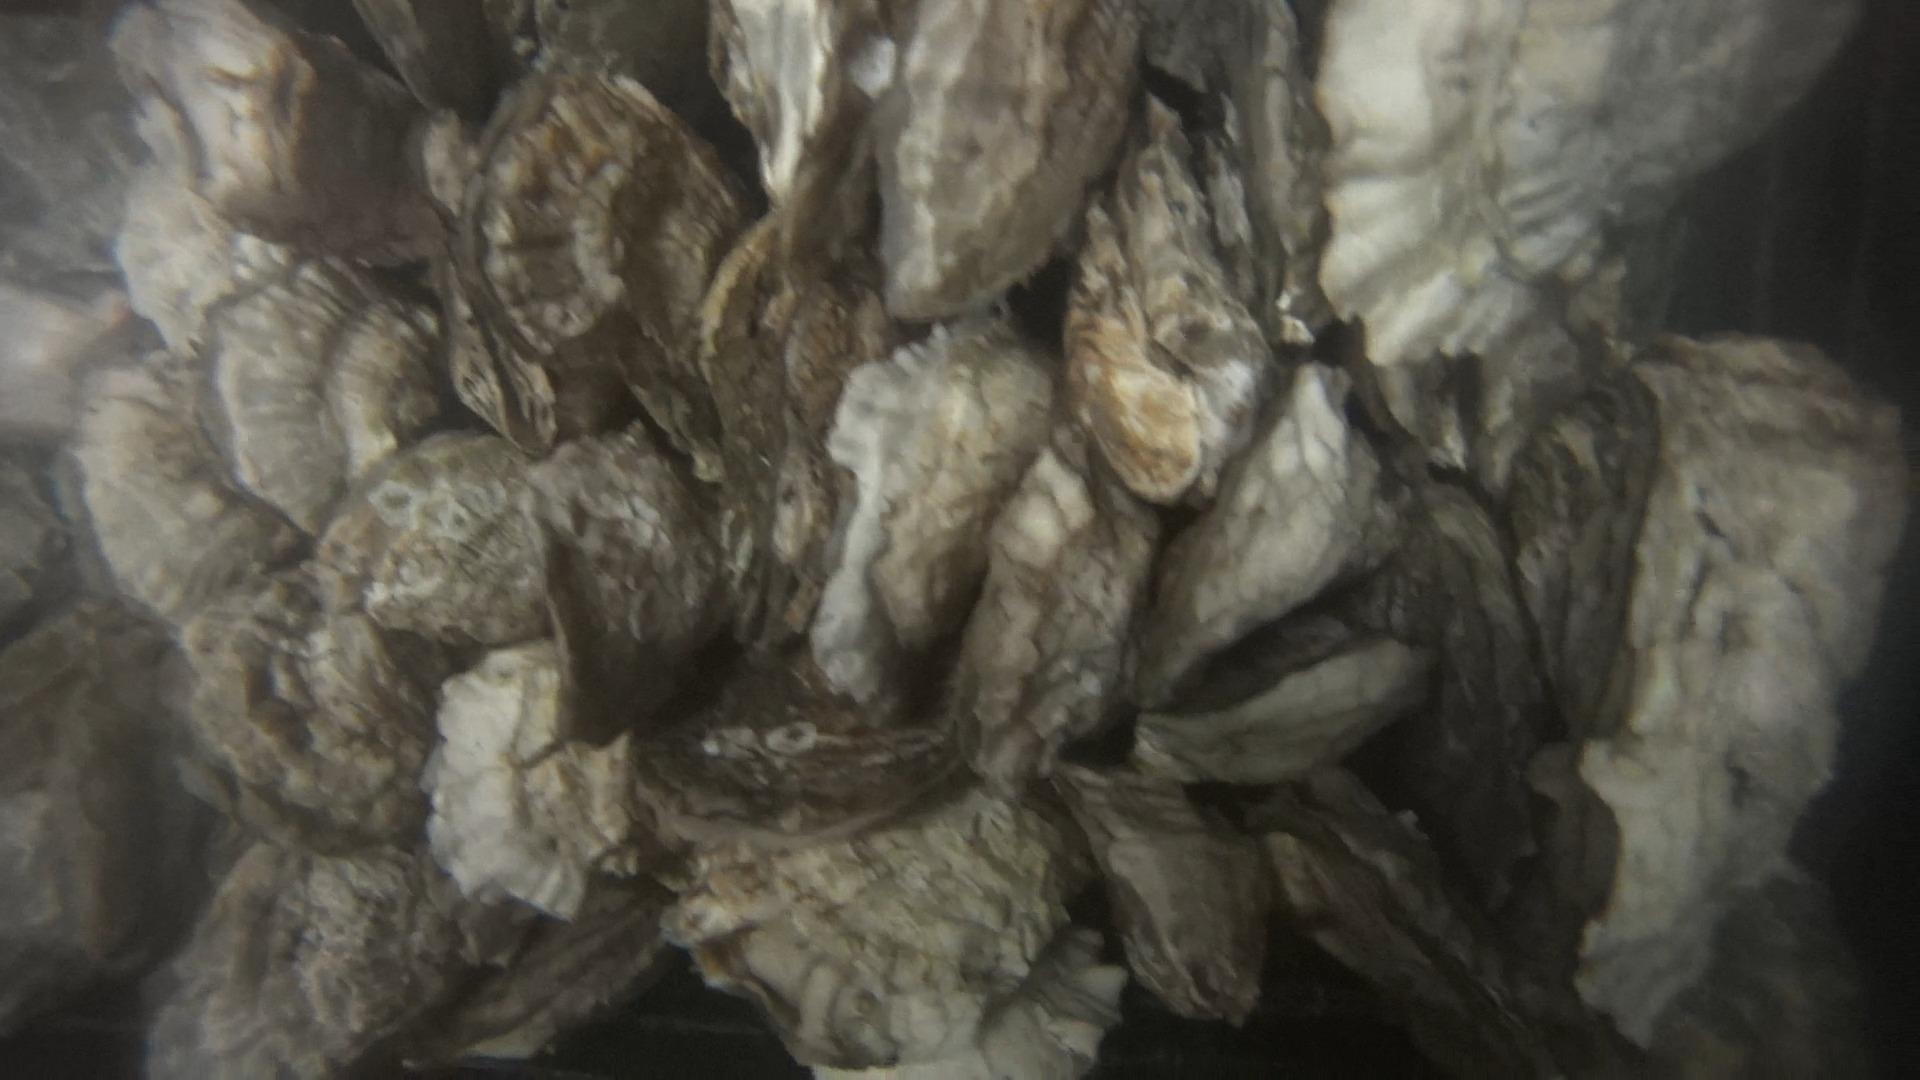3: (1241, 767, 1545, 1080), (447, 55, 735, 359), (640, 653, 955, 852), (1050, 765, 1273, 1029), (421, 895, 659, 1067)
Oyster- Indeterminate: (1576, 334, 1903, 1050), (679, 791, 1077, 1071), (810, 305, 1059, 704), (698, 149, 886, 642), (140, 836, 518, 1080), (1133, 357, 1389, 712), (1064, 102, 1278, 497), (193, 256, 472, 539), (157, 582, 427, 857), (957, 425, 1162, 769), (525, 419, 737, 745), (429, 642, 637, 924), (315, 426, 558, 654)
Oyster-Closed: (1131, 644, 1440, 785)
